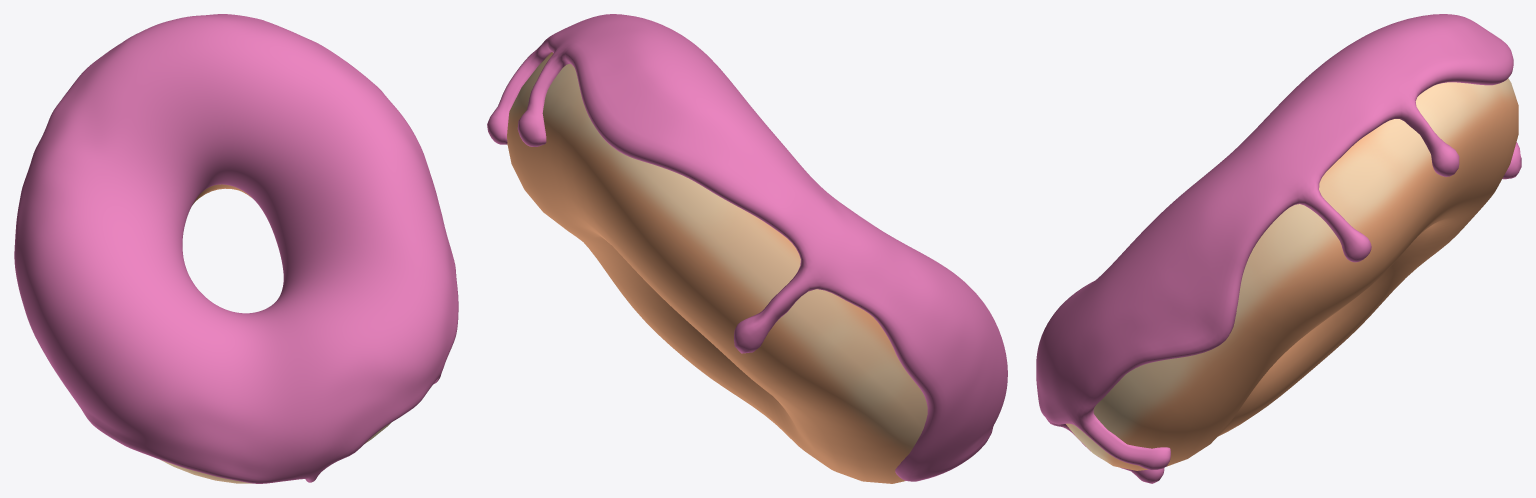
Rendered from donut_with_glaze.glb.
The picture shows the model from 3 angles, left to right: view 1: azimuth 30°, elevation 25°; view 2: azimuth 150°, elevation 25°; view 3: azimuth 270°, elevation 25°; orthographic projection. The views are drawn at different scales.
Parts seen in each view (by area): view 1: Icing.008, Donut.007; view 2: Donut.007, Icing.008; view 3: Icing.008, Donut.007.
Boxes of the visible parts, x1=… form: Icing.008: x1=14, y1=14, x2=458, y2=483; Donut.007: x1=161, y1=184, x2=391, y2=483; Donut.007: x1=507, y1=52, x2=927, y2=483; Icing.008: x1=487, y1=14, x2=1007, y2=481; Icing.008: x1=1036, y1=14, x2=1521, y2=483; Donut.007: x1=1066, y1=78, x2=1518, y2=470.
Size of the model in its own units: 0.1157 by 0.1154 by 0.1107.
2 materials, 1 textured.
